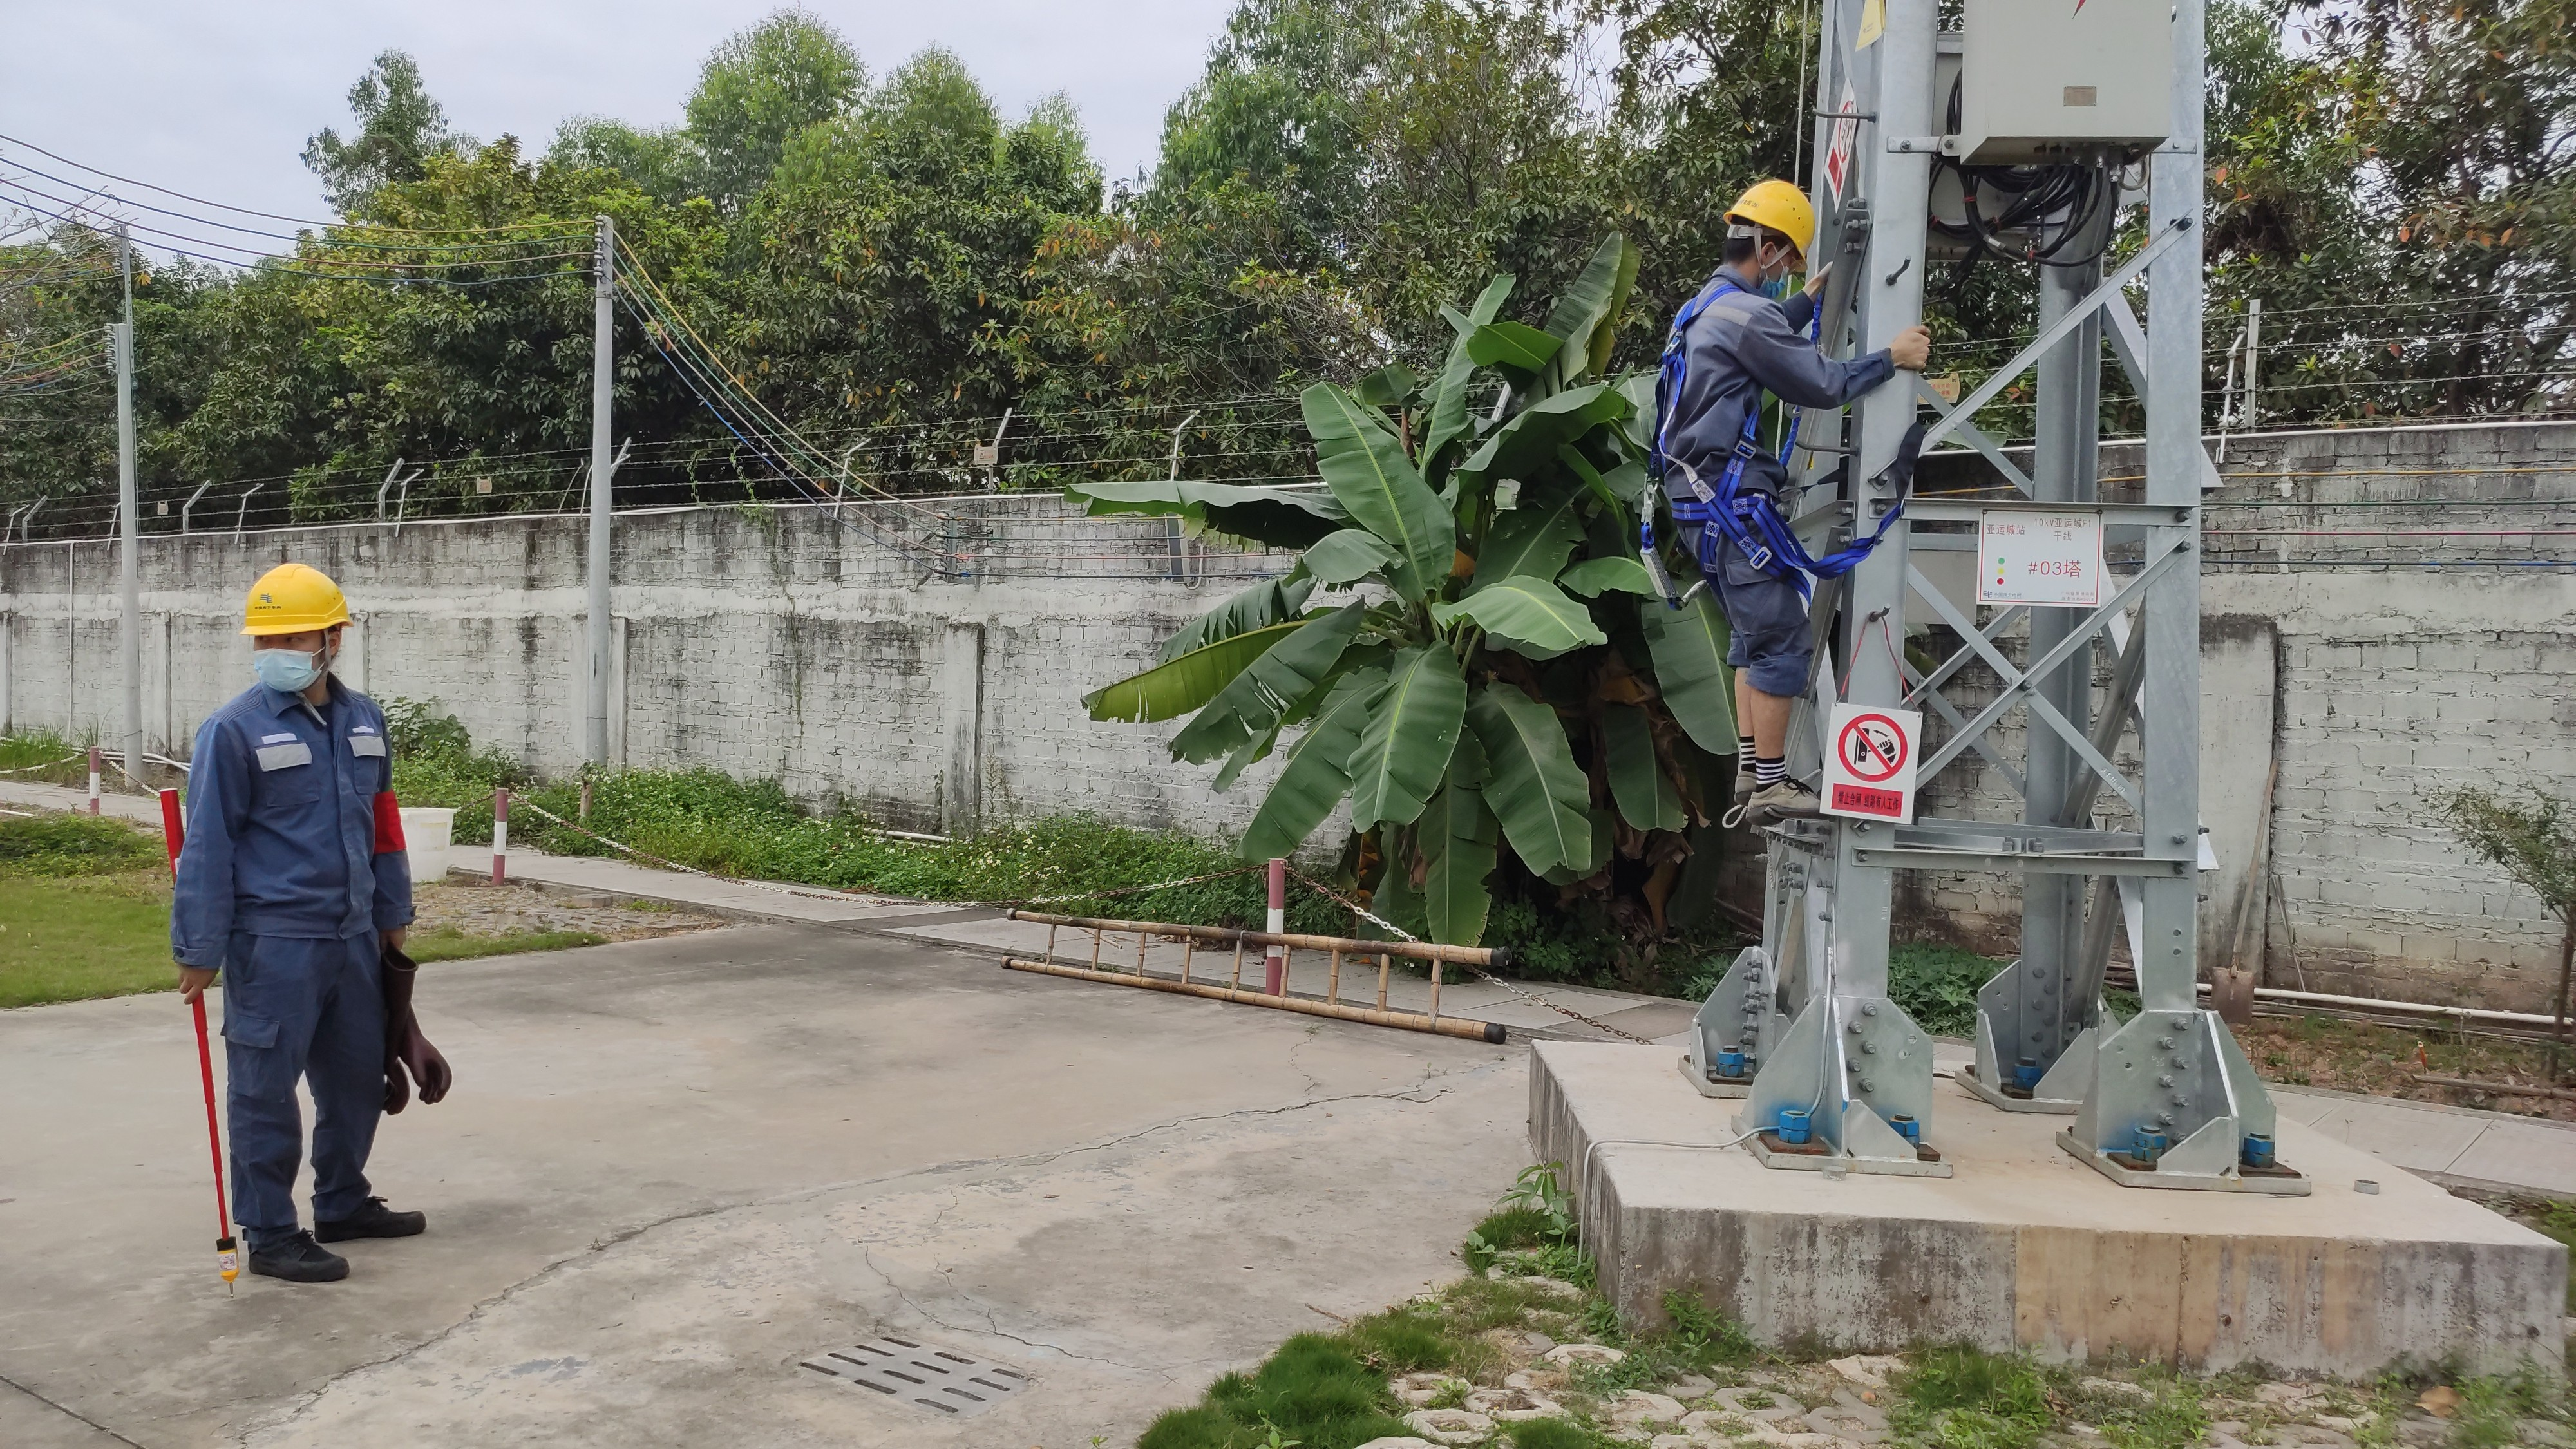downsuit: (218, 950, 398, 1230), (1674, 511, 1822, 697)
upsuit: (177, 681, 419, 945), (1652, 269, 1874, 495)
wrongbottom: (1727, 644, 1808, 780)
